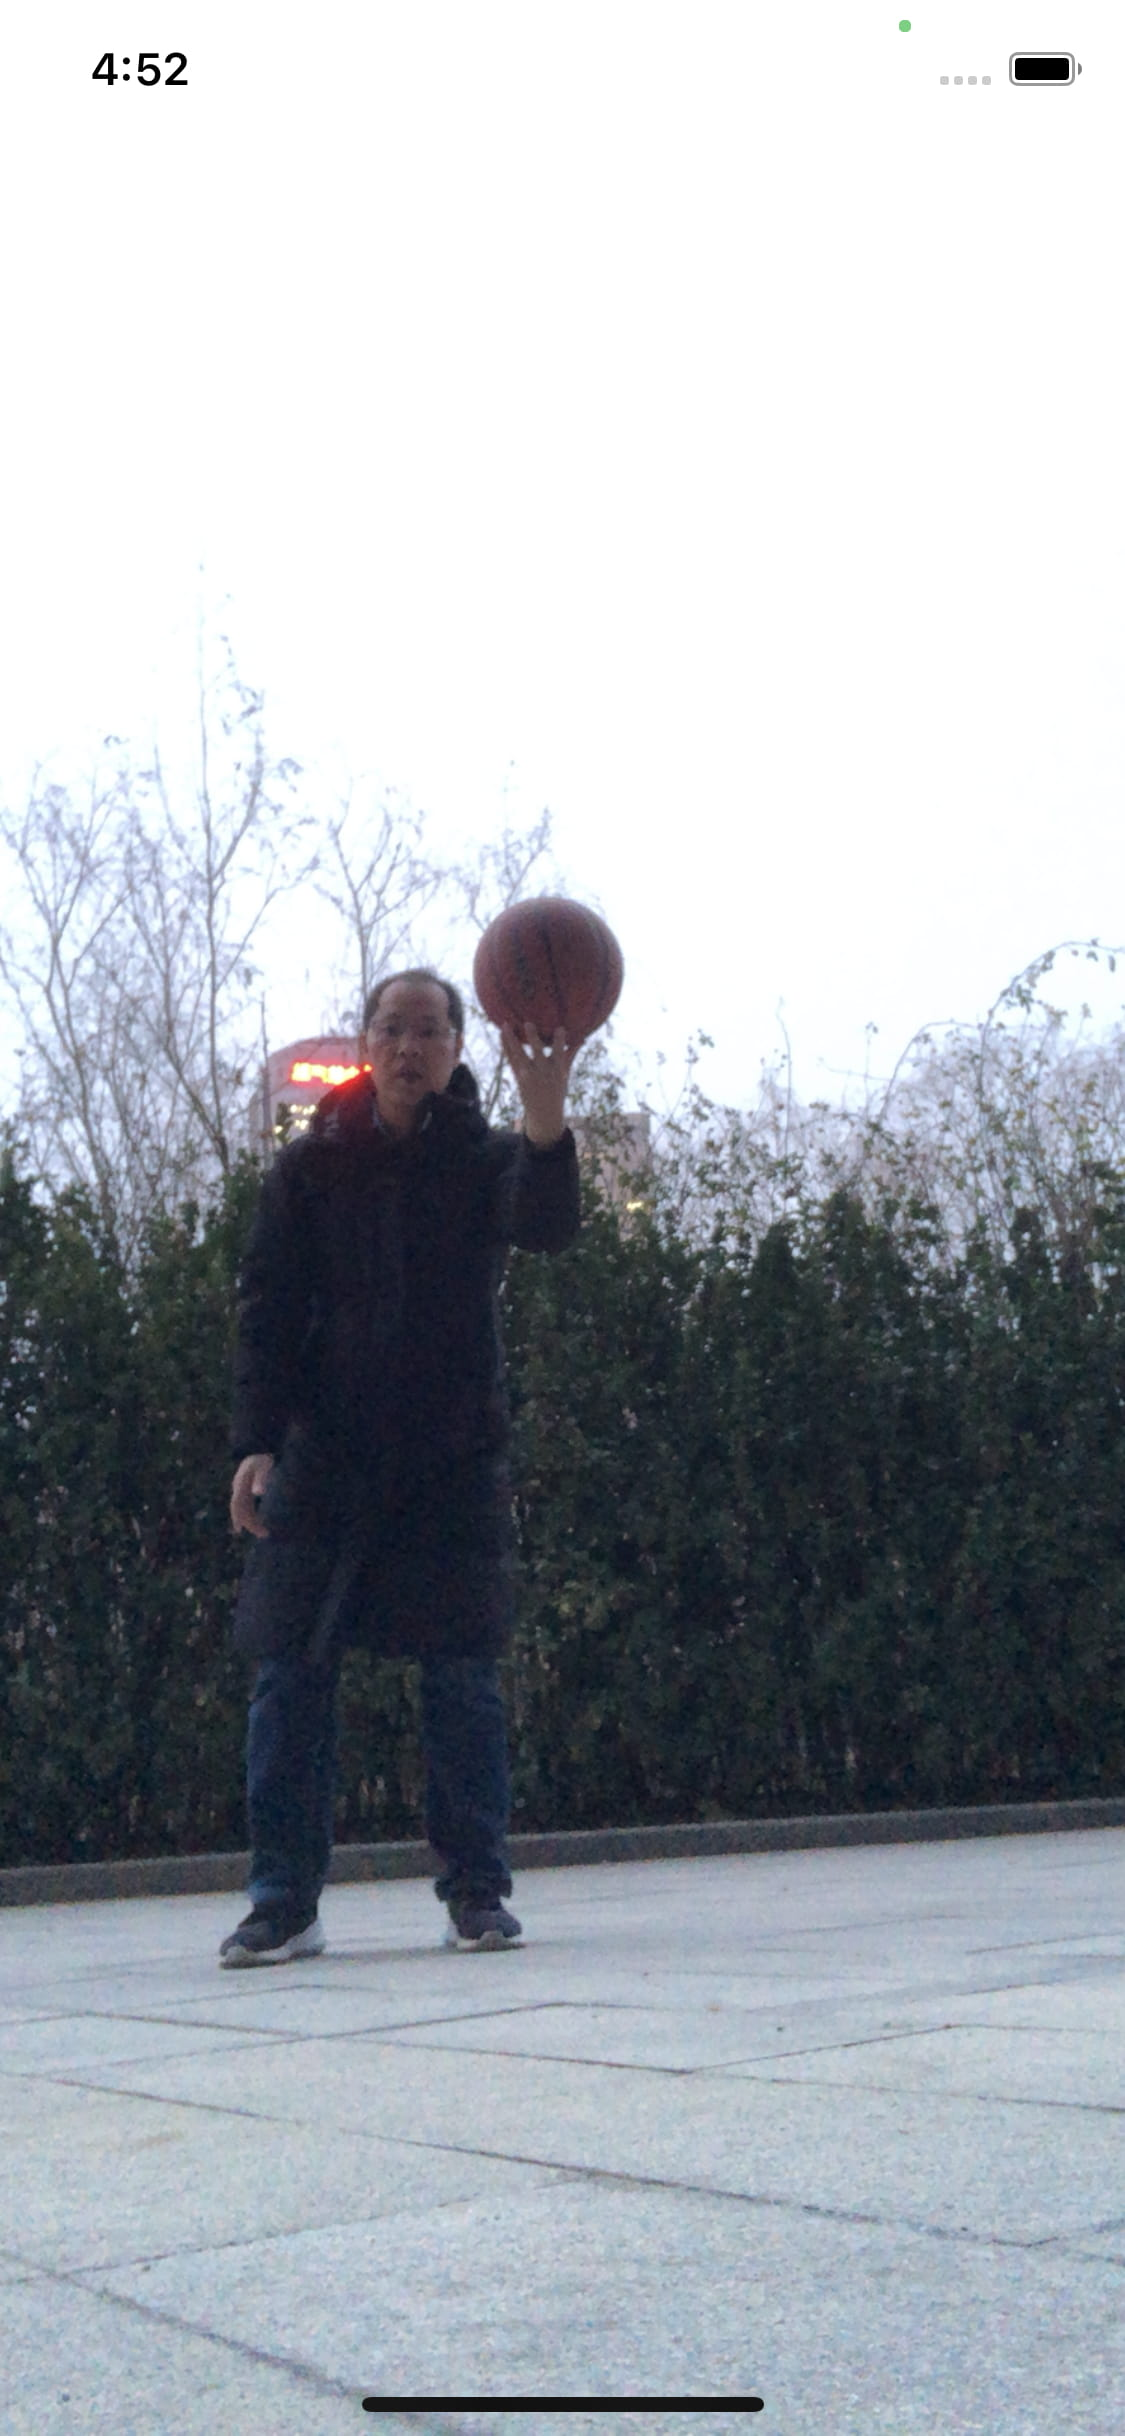ball: (475, 892, 625, 1046)
